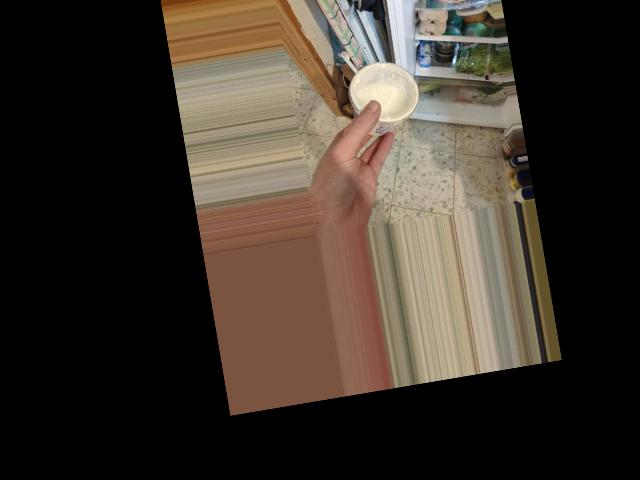cotage: (341, 48, 421, 143)
